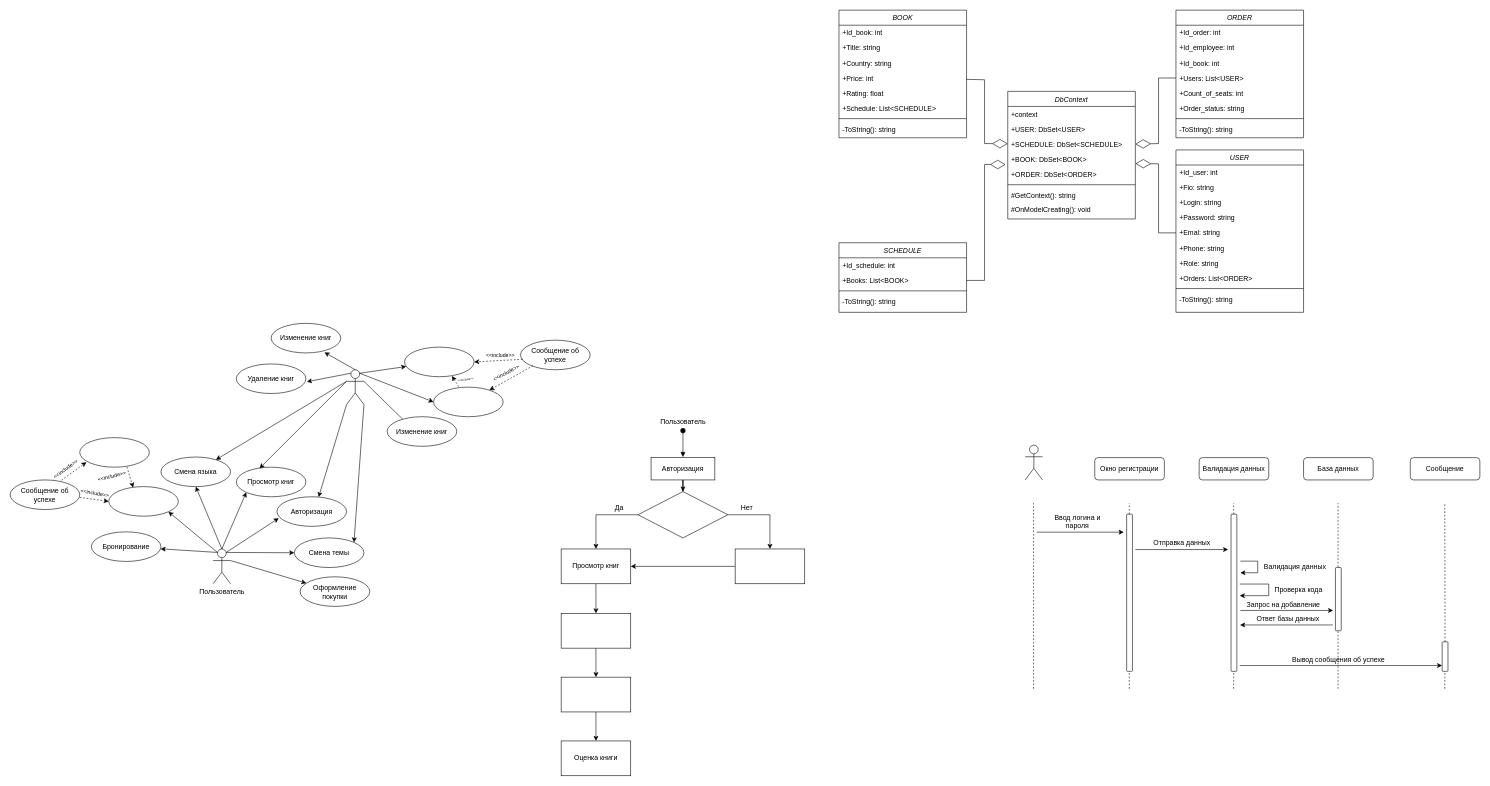
Some shapes in this 1490 by 786 pixel diagram are drawn without their labels. Each missing label, with the centre of its shape:
"Администратор" belongs at [355,387].
"Выбор книги" belongs at [596,630].
"Добавление книг" belongs at [439,362].
"Контроль книг" belongs at [468,402].
"Новый пользователь" belongs at [1034,462].
"Обработка данных" belongs at [114,452].
"Оформление книги" belongs at [596,694].
"Пользователь зарегистрирован" belongs at [682,514].
"Регистрация" belongs at [143,501].
"Регистрация пользователя" belongs at [770,566].
